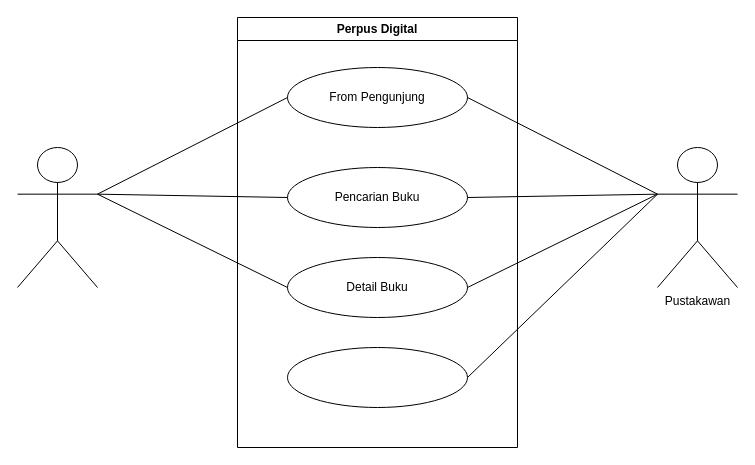
The diagram is 755 pixels wide and 465 high, and some of its shapes have lost their labels. Each missing label, with the centre of its shape:
"Laporan Statistik" belongs at point 377,377.
"Petugas" belongs at point 57,217.
